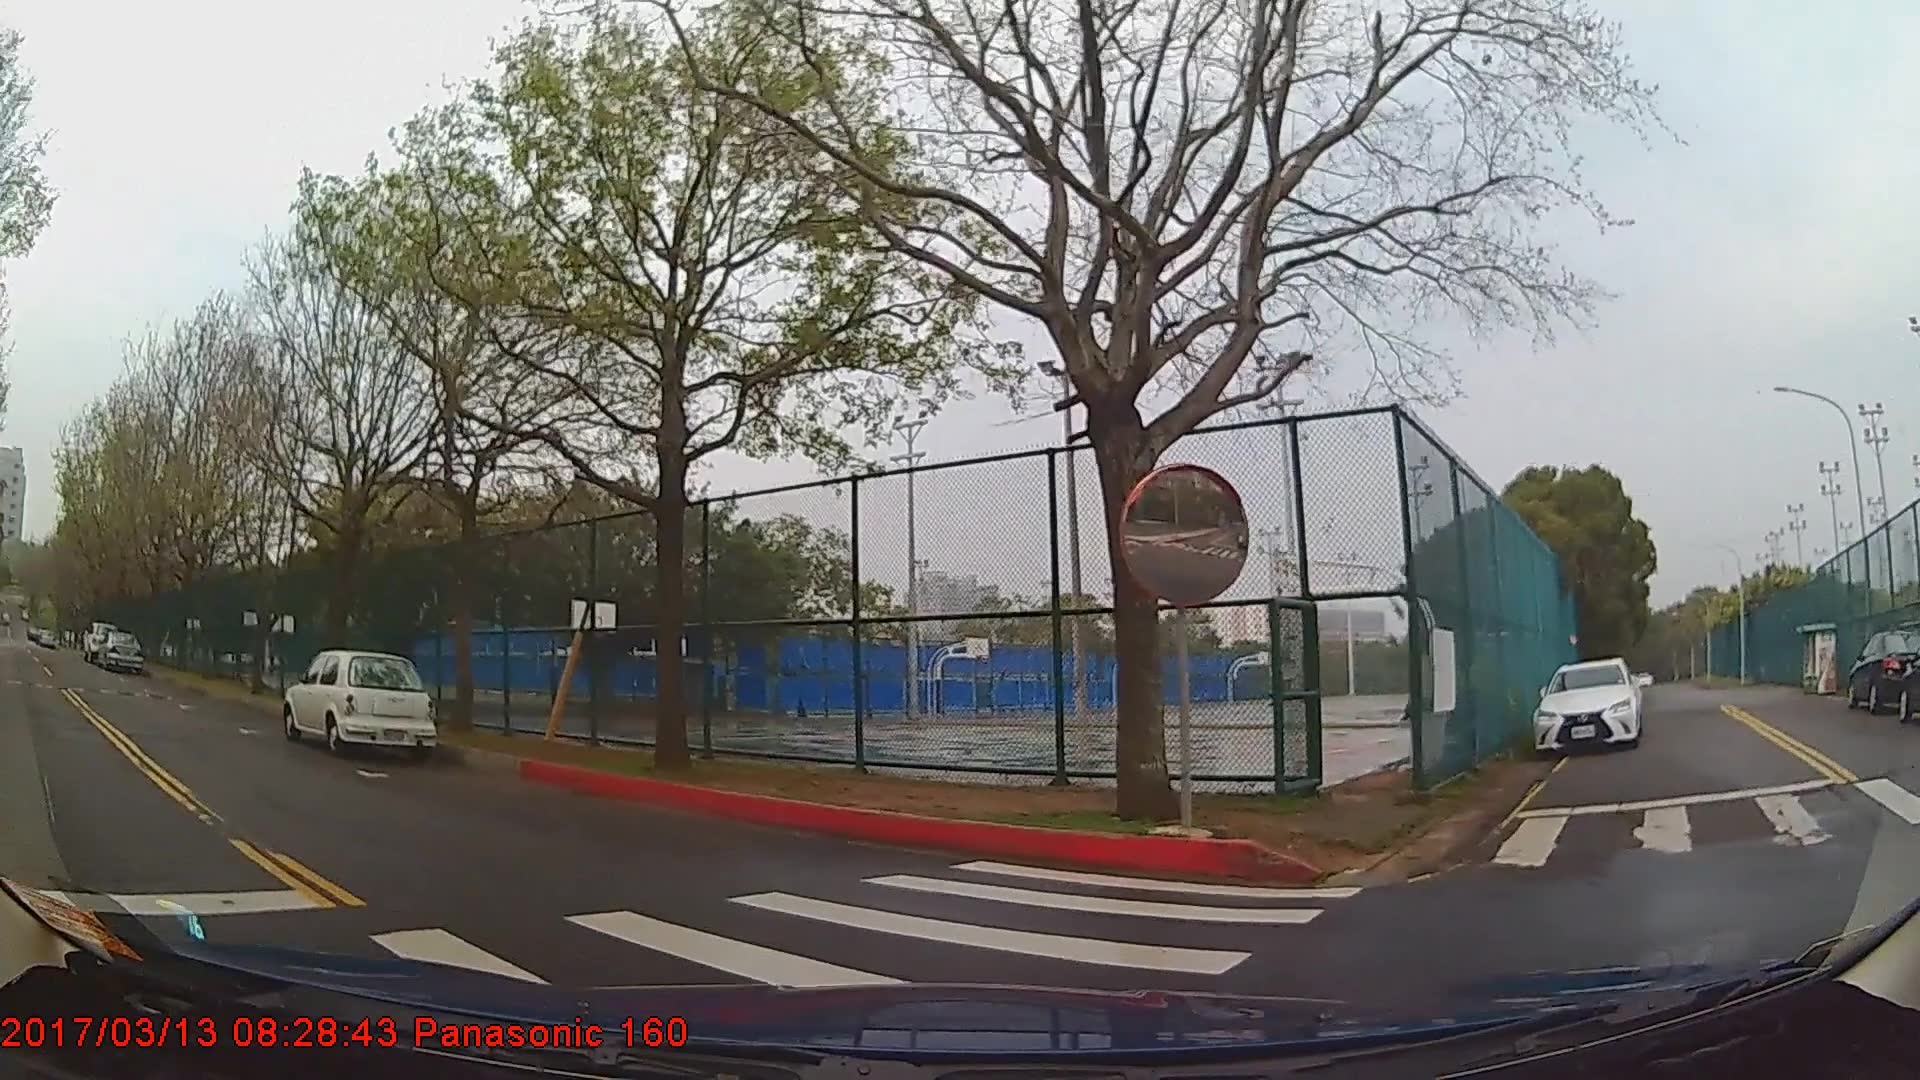vehicle: (284, 645, 438, 749), (1534, 657, 1644, 754), (1847, 626, 1919, 712), (94, 626, 145, 671)
